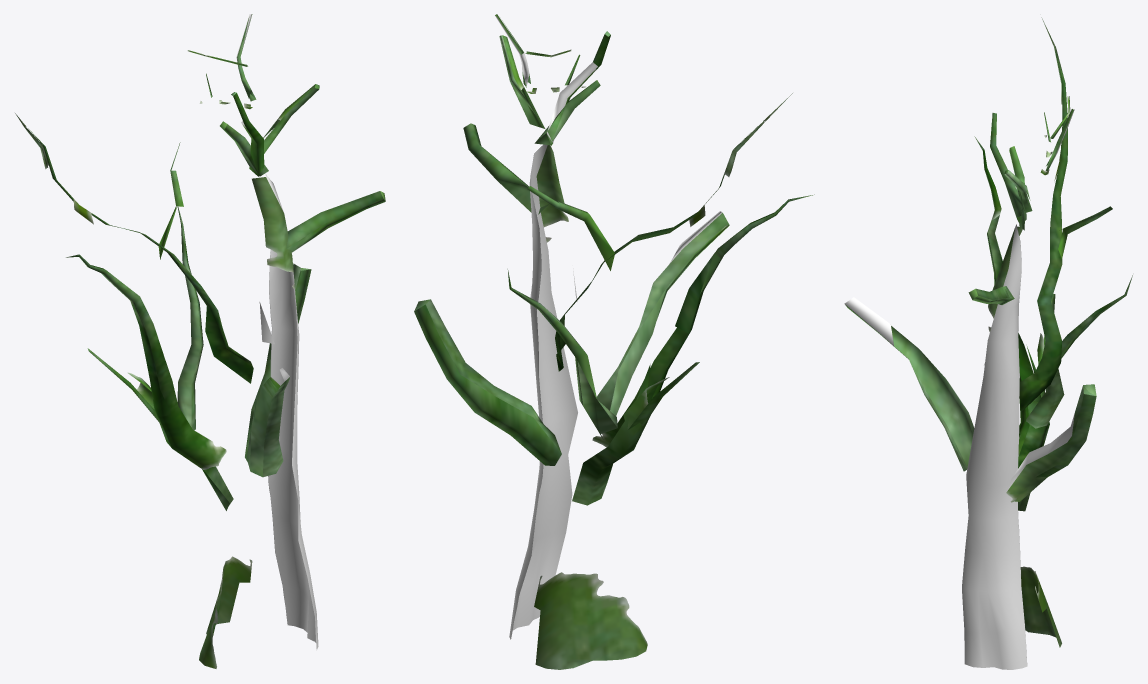
Rendered from Tree4FBX.fbx.
3 renders of one model, left to right at view 1: azimuth 30°, elevation 25°; view 2: azimuth 150°, elevation 25°; view 3: azimuth 270°, elevation 25°, orthographic. The views are drawn at different scales.
Parts seen in each view (by area): view 1: Tree4; view 2: Tree4; view 3: Tree4.
Boxes of the visible parts, <box> form: Tree4: <box>15,14,385,668</box>; Tree4: <box>414,14,814,669</box>; Tree4: <box>844,17,1132,669</box>.
Size of the model in its own units: 441 by 745 by 353.
